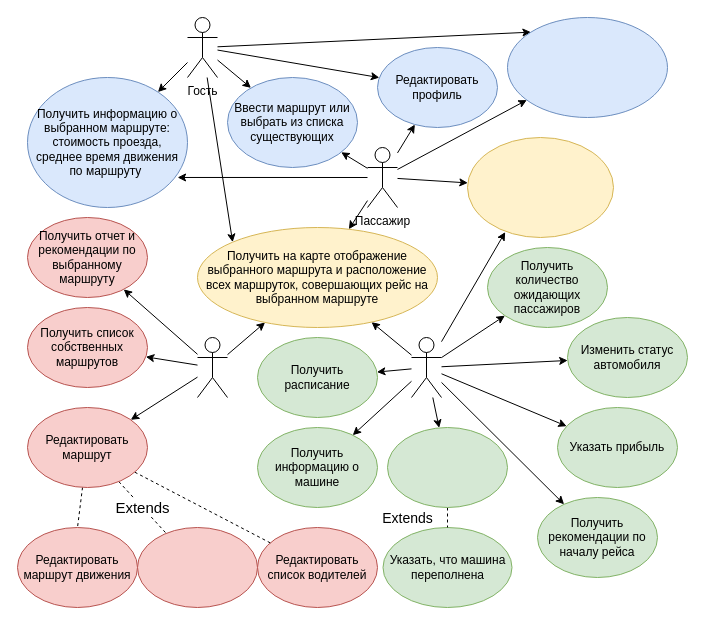
This 705x625 diagram has some shape labels left out. The centre of each missing label's shape, as x and y in pixels:
"Владелец" belongs at point (212, 367).
"Водитель" belongs at point (426, 367).
"Начать/завершить пейс" belongs at point (447, 467).
"Оставить отзыв владельцу" belongs at point (540, 187).
"Отметить остановку, на которой ожидается маршрутка выбранного маршрута" belongs at point (587, 67).
"Редактировать список автомобилей" belongs at point (197, 567).
